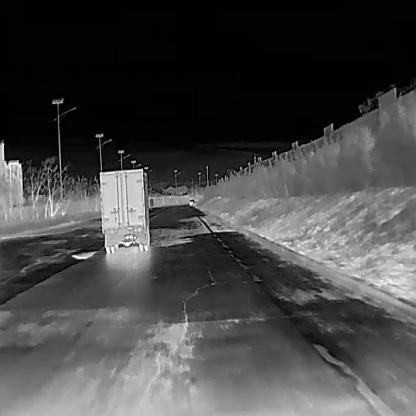car: (188, 197, 194, 205)
truck: (98, 167, 152, 252)
